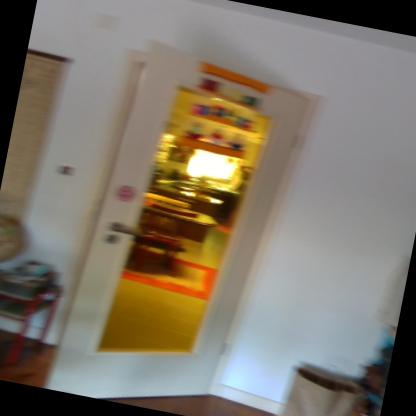closed: (41, 27, 327, 415)
